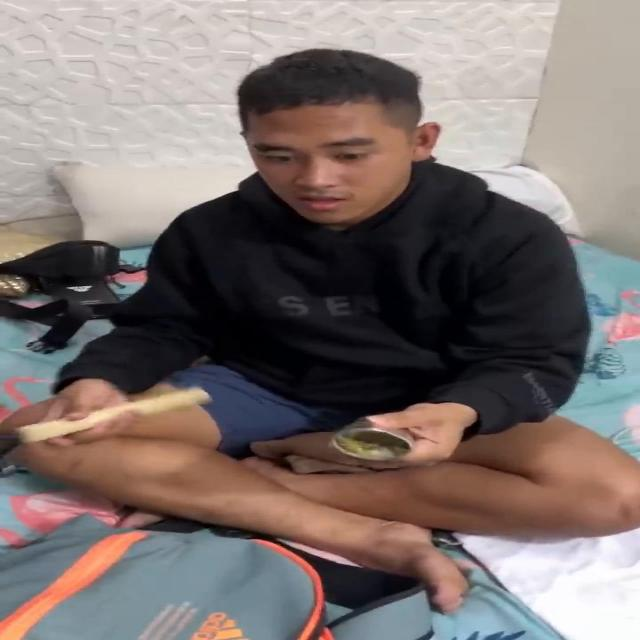hammer: (0, 387, 215, 461)
